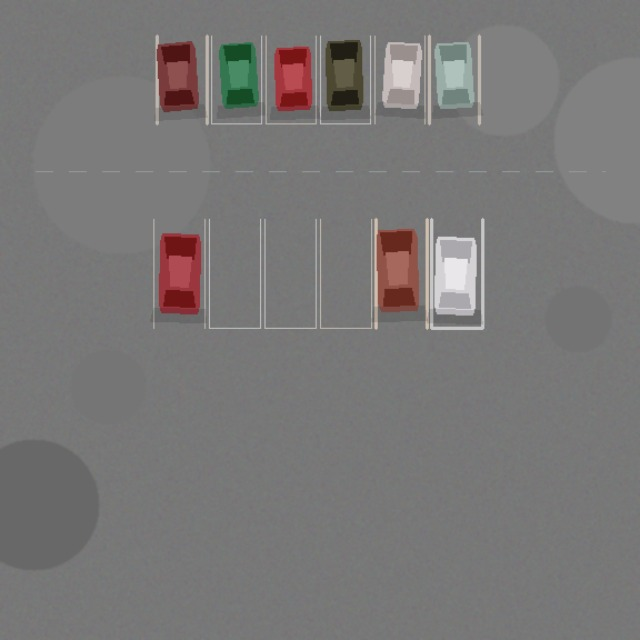space-empty: (264, 219, 316, 328), (209, 219, 260, 328), (320, 219, 371, 328)
space-occupied: (153, 219, 204, 328), (376, 219, 427, 328), (431, 219, 482, 328), (157, 36, 207, 123), (211, 36, 261, 123), (266, 36, 316, 123), (320, 36, 370, 123), (374, 36, 424, 123), (429, 36, 479, 123)
